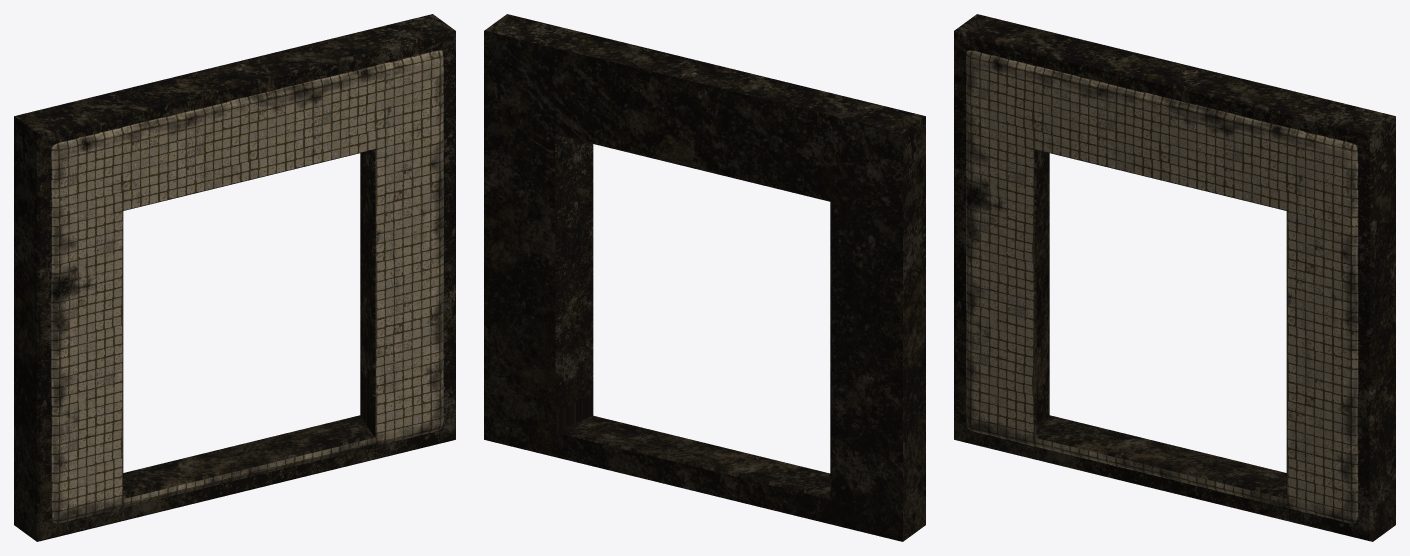
File: SM_WallEnterance02.FBX
The picture shows the model from 3 angles, left to right: view 1: azimuth 30°, elevation 25°; view 2: azimuth 150°, elevation 25°; view 3: azimuth 330°, elevation 25°; orthographic projection.
Visible parts, largest first — view 1: SM_WallEnterance02_LOD0; view 2: SM_WallEnterance02_LOD0; view 3: SM_WallEnterance02_LOD0.
Boxes of the visible parts, x1=… form: SM_WallEnterance02_LOD0: x1=14, y1=14, x2=455, y2=541; SM_WallEnterance02_LOD0: x1=484, y1=14, x2=925, y2=541; SM_WallEnterance02_LOD0: x1=954, y1=14, x2=1395, y2=541.
Bounding box in the file's own units: 300 × 32.04 × 280.
